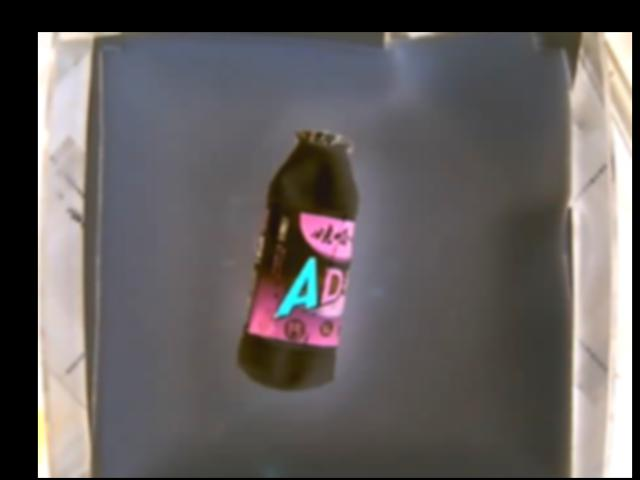Bottle: (235, 132, 361, 391)
